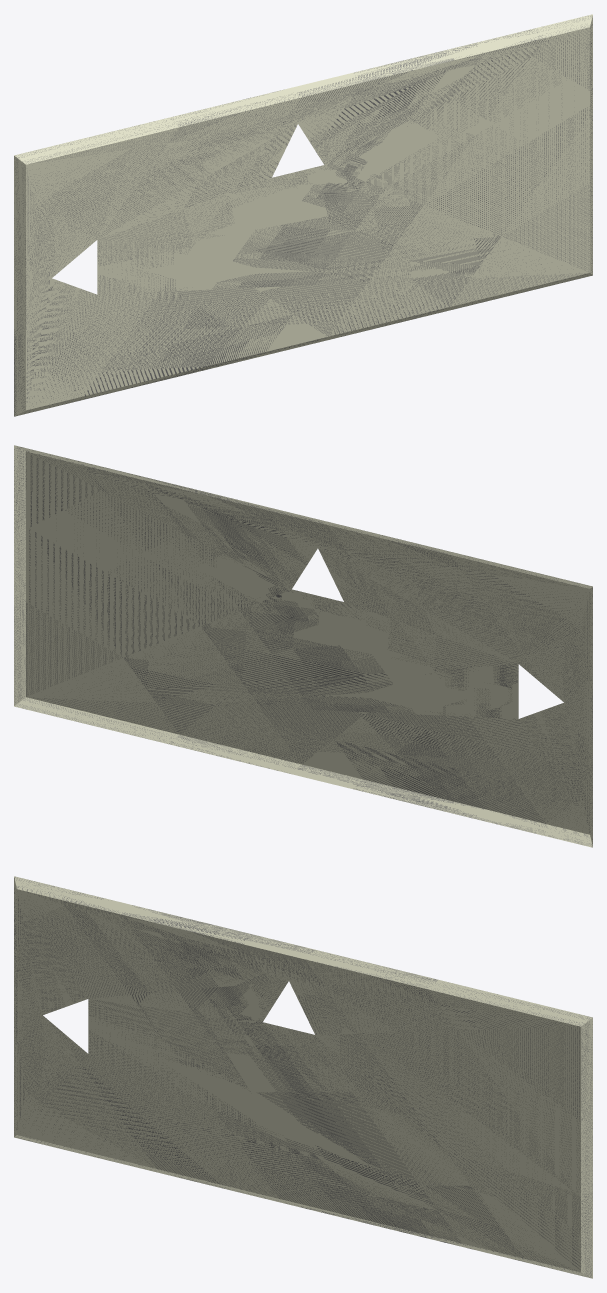
Rendered from original-83.obj.
3 views of the same model, one above another, from view 1: azimuth 30°, elevation 25°; view 2: azimuth 150°, elevation 25°; view 3: azimuth 330°, elevation 25° (orthographic).
Visible parts, largest first — view 1: mesh52/mesh52-geometry/material_8/component_2#mesh52-geometry; view 2: mesh52/mesh52-geometry/material_8/component_2#mesh52-geometry; view 3: mesh52/mesh52-geometry/material_8/component_2#mesh52-geometry.
Part boxes in pixels (x1,y1,x2,y2): mesh52/mesh52-geometry/material_8/component_2#mesh52-geometry: (14, 14, 592, 416); mesh52/mesh52-geometry/material_8/component_2#mesh52-geometry: (14, 445, 592, 847); mesh52/mesh52-geometry/material_8/component_2#mesh52-geometry: (14, 876, 592, 1278).
Size of the model in its own units: 0.2892 by 0.1248 by 0.00394.
